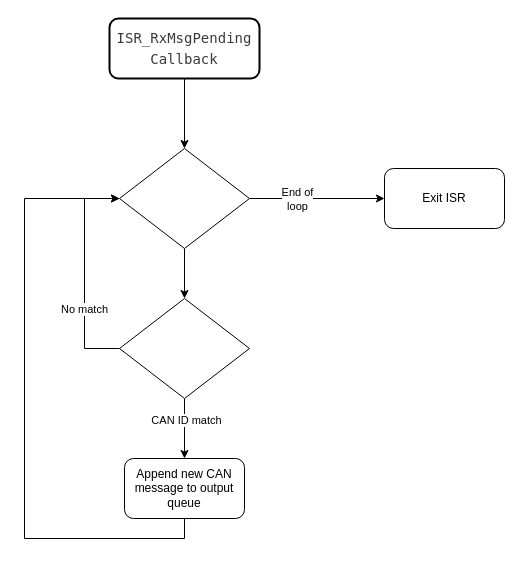
Some shapes in this 522 by 564 pixel diagram are drawn without their labels. The shapes that lost their labels are listed below. From the top down, each one's centre as x and y in pixels, then its label:
At (184,198): "Iterate through all registered queues".
At (184,348): "CAN ID matches current queue?".
